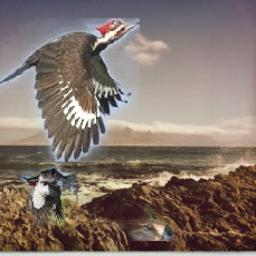Swallow: (112, 205, 176, 242)
Woodpecker: (0, 18, 141, 162), (20, 155, 78, 226)
